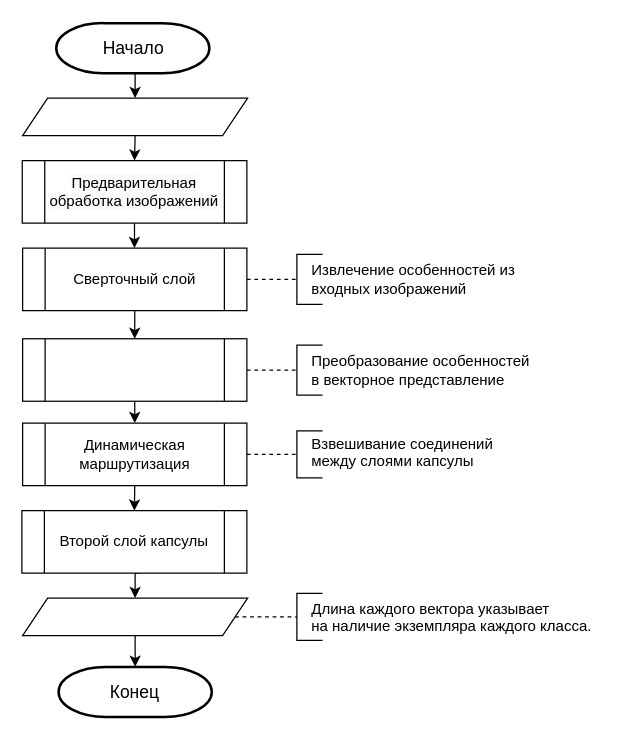
Image size: 619x739. Some labels were removed from this diagram. Here are the shapes that lost their labels. From the top down, the box of each, then its label:
(21, 97, 248, 136): Ввод изображений
(21, 338, 247, 401): Первичный слой капсулы
(21, 597, 248, 636): Вывод списка векторов
